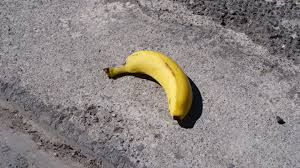banana: (100, 44, 193, 124)
